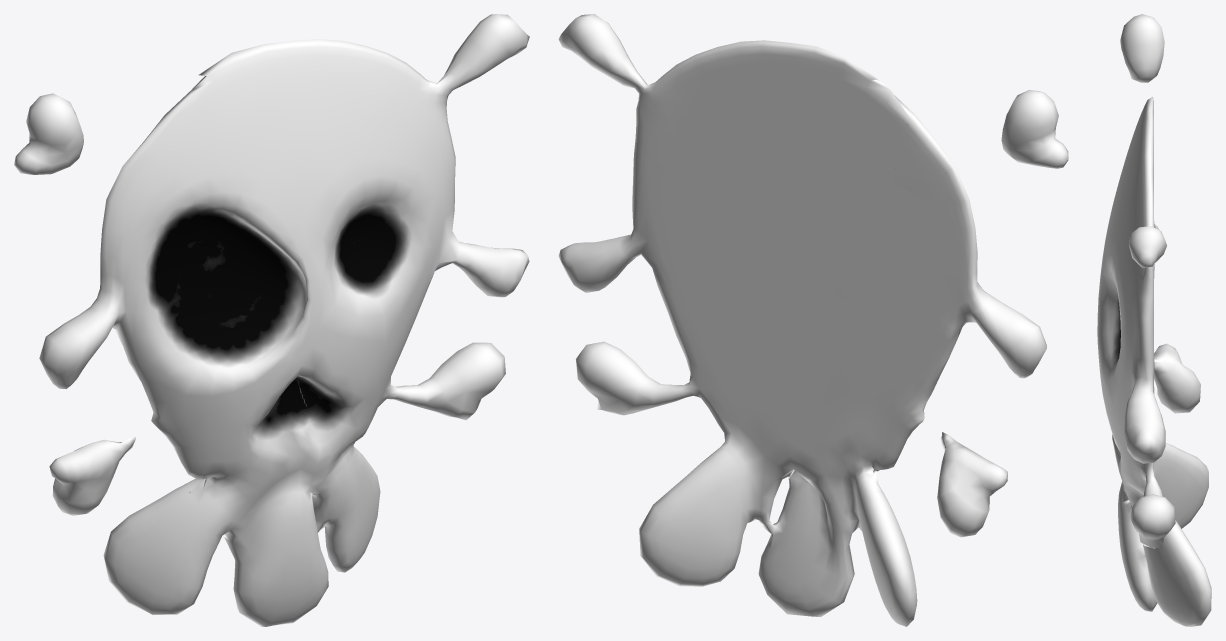
The model's file is skull.glb.
3 renders of one model, left to right at view 1: azimuth 30°, elevation 25°; view 2: azimuth 150°, elevation 25°; view 3: azimuth 270°, elevation 25°, orthographic. The views are drawn at different scales.
Parts seen in each view (by area): view 1: final_Material #37_0, final_Material #38_0; view 2: final_Material #37_0, final_Material #38_0; view 3: final_Material #37_0, final_Material #38_0.
Boxes of the visible parts, left/top/right/bottom form: final_Material #37_0: left=39, top=14, right=529, bottom=626; final_Material #38_0: left=14, top=93, right=83, bottom=174; final_Material #37_0: left=558, top=14, right=1046, bottom=626; final_Material #38_0: left=1001, top=90, right=1068, bottom=168; final_Material #37_0: left=1097, top=97, right=1211, bottom=626; final_Material #38_0: left=1120, top=14, right=1164, bottom=82.
Bounding box in the file's own units: 106 × 115 × 24.15.
Materials: 2 (1 with a texture image).
